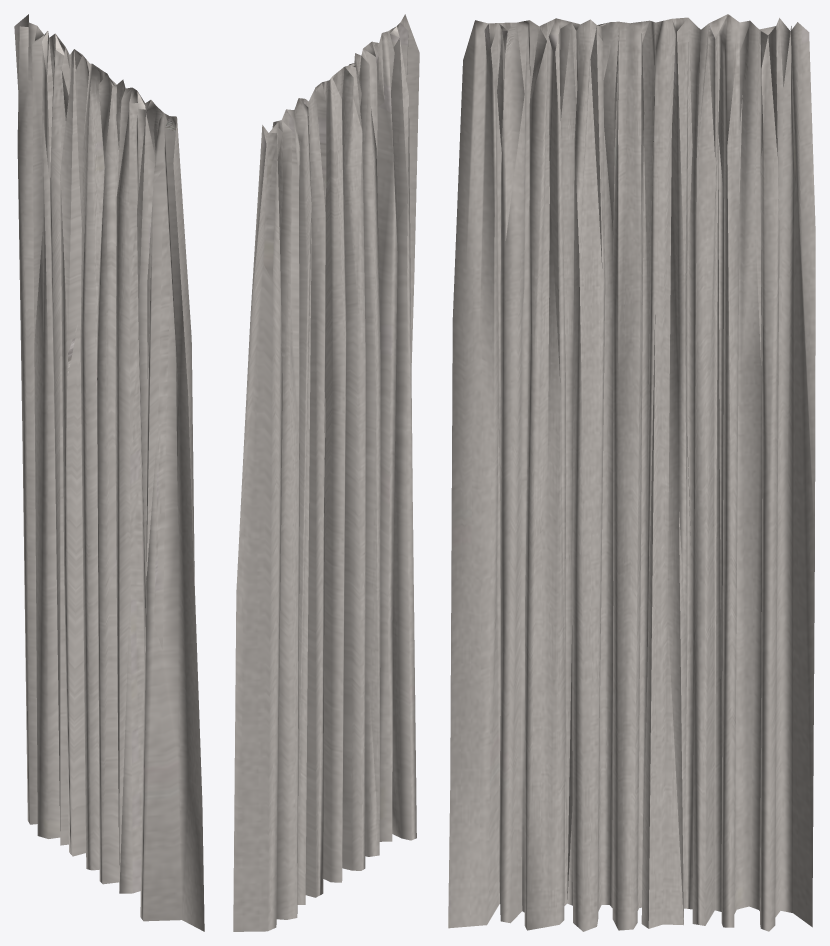
File: Curtains0002.obj
3 views of the same model, side by side, from view 1: azimuth 30°, elevation 25°; view 2: azimuth 150°, elevation 25°; view 3: azimuth 270°, elevation 25° (orthographic). The views are drawn at different scales.
Bounding box in the file's own units: 0.169 × 2.41 × 0.889.
1 material, 1 textured.
